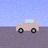vehicle: (16, 19, 39, 33)
